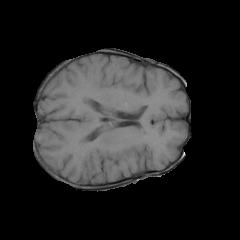glioma: (68, 125, 97, 155)
